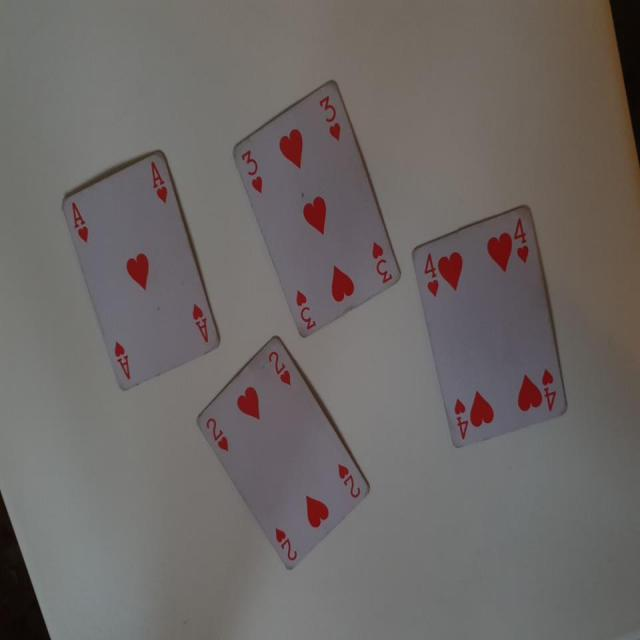2 Hearts: (184, 330, 377, 577)
3 Hearts: (229, 80, 408, 340)
4 Hearts: (400, 200, 565, 458)
A Hearts: (56, 140, 220, 394)
